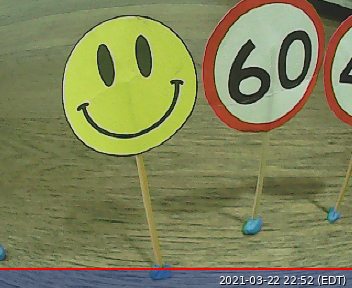Person: (61, 13, 197, 157)
Speed Limit 60: (201, 1, 323, 133)
